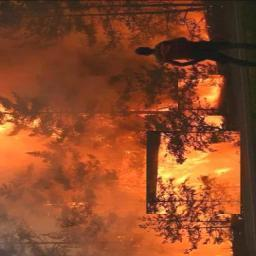Low smoke: (3, 3, 147, 254)
Medium fire: (153, 96, 244, 215)
